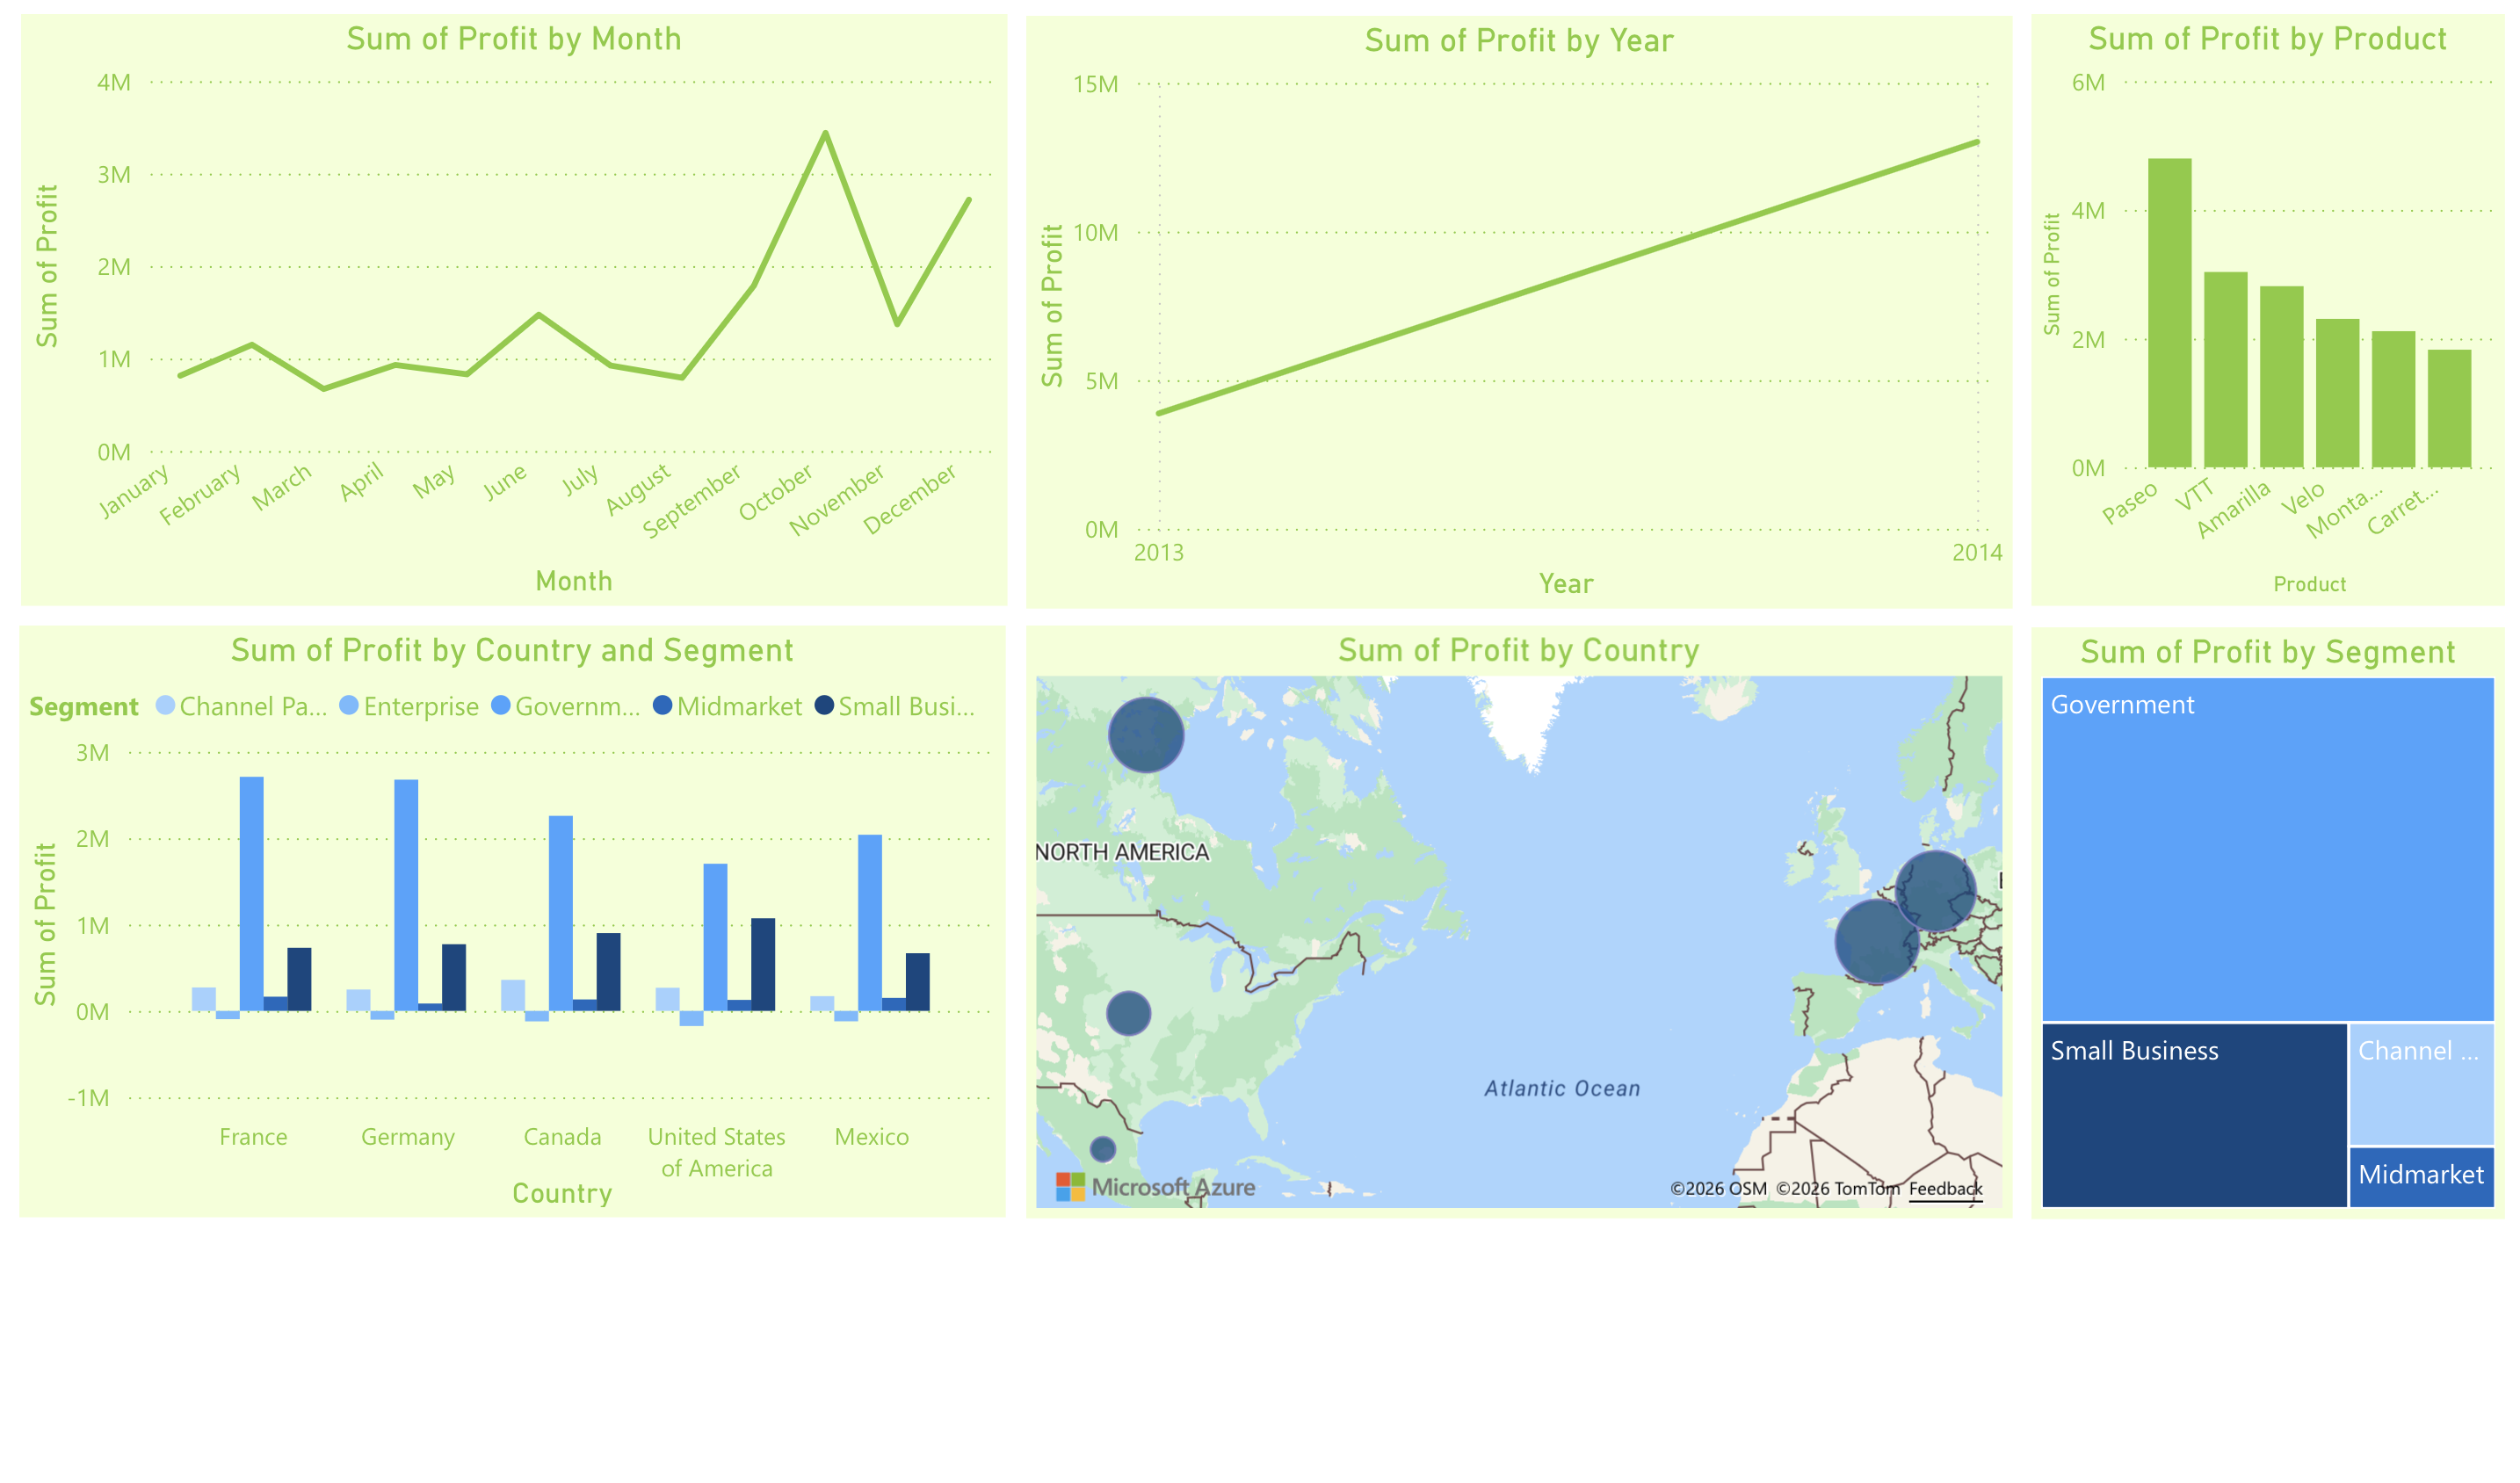

The page's visual inventory and layout, read from the dashboard file:
{"tool":"powerbi","page":{"name":"Page 1","canvas":[1280,720],"ordinal":0},"visuals":[{"type":"lineChart","fields":{"Category":["financials.Date.Variation.Date Hierarchy.Month"],"Y":["Sum(financials.Profit)"]},"box":[10.7,10,500,300],"z":0},{"type":"lineChart","fields":{"Category":["financials.Date.Variation.Date Hierarchy.Year"],"Y":["Sum(financials.Profit)"]},"box":[520,10.7,500,300.6],"z":1},{"type":"clusteredColumnChart","fields":{"Y":["Sum(financials.Profit)"],"Category":["financials.Country"],"Series":["financials.Segment"]},"box":[10,320,500,300],"z":2},{"type":"azureMap","fields":{"Category":["financials.Country"],"Size":["Sum(financials.Profit)"]},"box":[520,320,500,300.6],"z":3},{"type":"clusteredColumnChart","fields":{"Y":["Sum(financials.Profit)"],"Category":["financials.Product"]},"box":[1030,10,240,300],"z":4},{"type":"treemap","fields":{"Values":["Sum(financials.Profit)"],"Group":["financials.Segment"]},"box":[1030,320.3,240.2,300],"z":5}]}

Visuals, with their boxes on the page's 1280x720 design canvas (x1, y1, x2, y2). These are canvas units, not pixel positions in the 2520x1483 screenshot, which may show the page scaled, cropped or inside an application window:
lineChart - financials.Date.Variation.Date Hierarchy.Month x Sum(financials.Profit): (11,10,511,310)
lineChart - financials.Date.Variation.Date Hierarchy.Year x Sum(financials.Profit): (520,11,1020,311)
clusteredColumnChart - Sum(financials.Profit) x financials.Country: (10,320,510,620)
azureMap - financials.Country x Sum(financials.Profit): (520,320,1020,621)
clusteredColumnChart - Sum(financials.Profit) x financials.Product: (1030,10,1270,310)
treemap - Sum(financials.Profit) x financials.Segment: (1030,320,1270,620)
